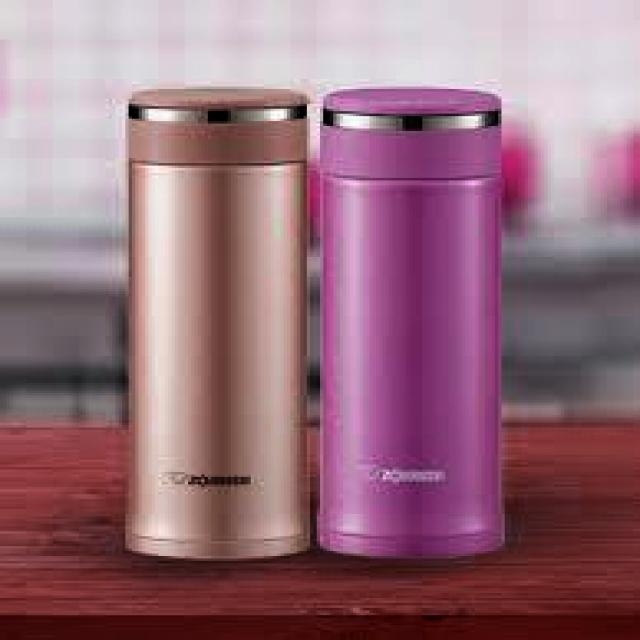bottle: (112, 81, 317, 564), (315, 81, 513, 566)
